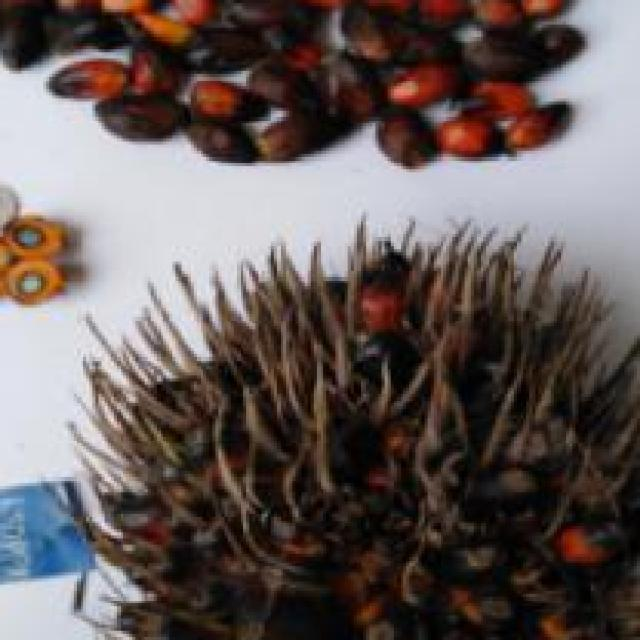unripe: (21, 178, 640, 639)
